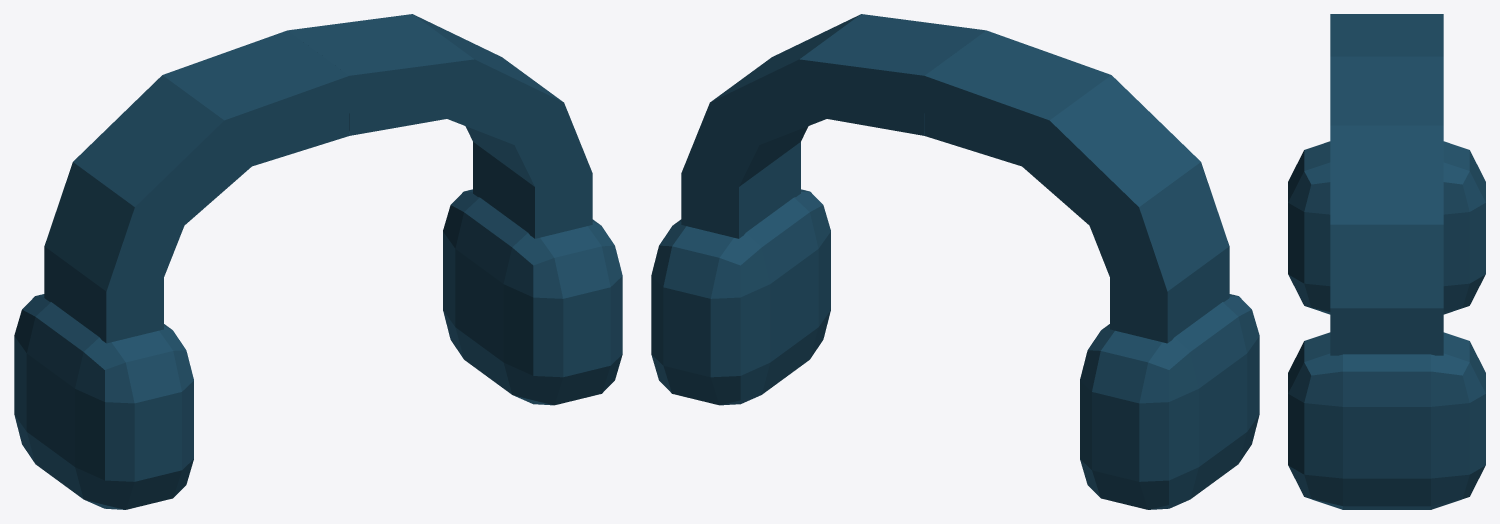
The model's file is Head_9_2.fbx.
The picture shows the model from 3 angles, left to right: view 1: azimuth 30°, elevation 25°; view 2: azimuth 150°, elevation 25°; view 3: azimuth 270°, elevation 25°; orthographic projection. The views are drawn at different scales.
Visible parts, largest first — view 1: Cube.013; view 2: Cube.013; view 3: Cube.013.
Boxes of the visible parts, <box> form: Cube.013: <box>14,14,622,509</box>; Cube.013: <box>651,14,1259,509</box>; Cube.013: <box>1288,14,1485,509</box>.
Bounding box in the file's own units: 66.67 × 45.23 × 23.35.
